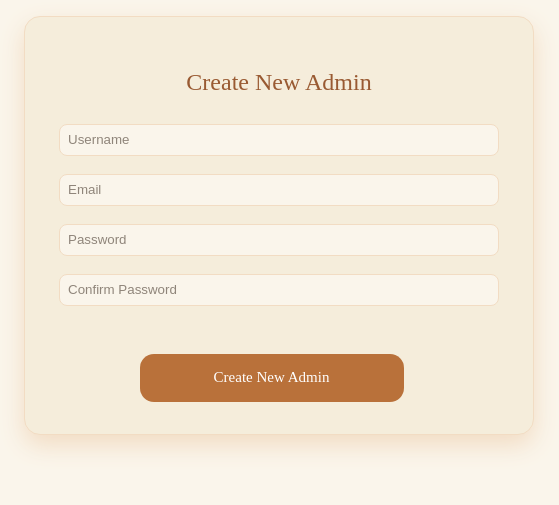
Scenario: CreateNewAdminForm › submits admin payload and shows success message
Type "Hans Zimmer" into the field with placeholder "Username".
click(279, 140); type("Hans Zimmer")  # box [59,124,499,156]
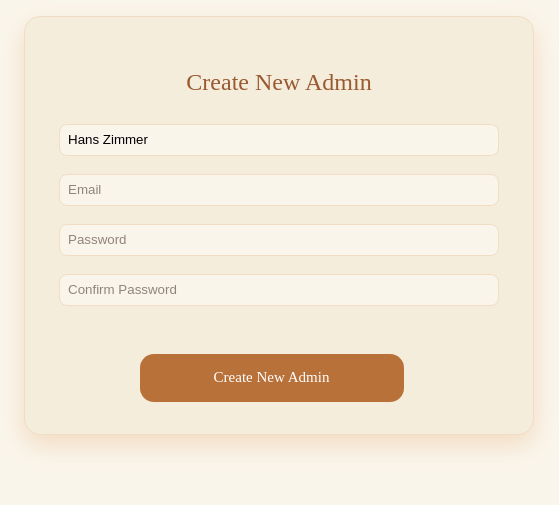
Type "hans@music.com" into the field with placeholder "Email".
click(279, 190); type("hans@music.com")  # box [59,174,499,206]
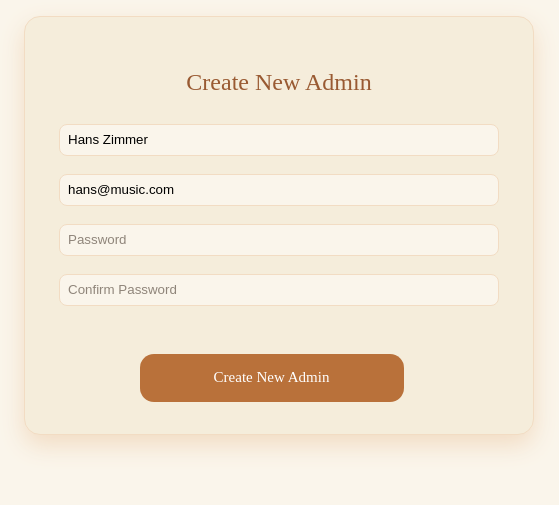
Type "Abcdef1234" into the password field with placeholder "Password".
click(279, 240); type("Abcdef1234")  # box [59,224,499,256]
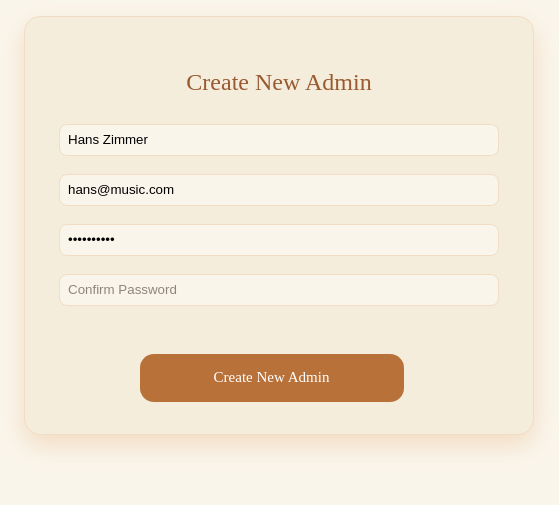
Type "Abcdef1234" into the password field with placeholder "Confirm Password".
click(279, 290); type("Abcdef1234")  # box [59,274,499,306]
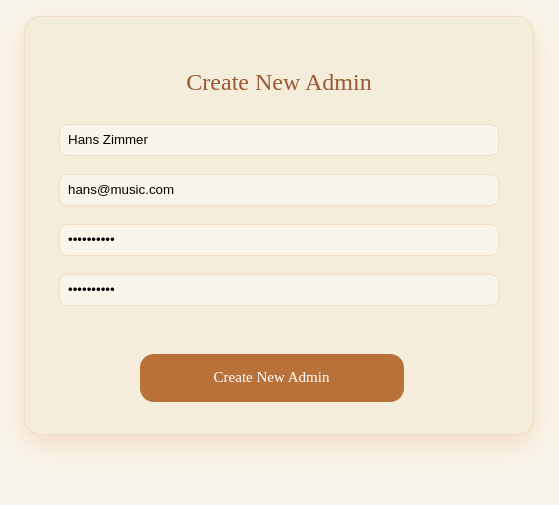
Click the button "Create New Admin".
click(272, 378)  # box [140,354,404,402]
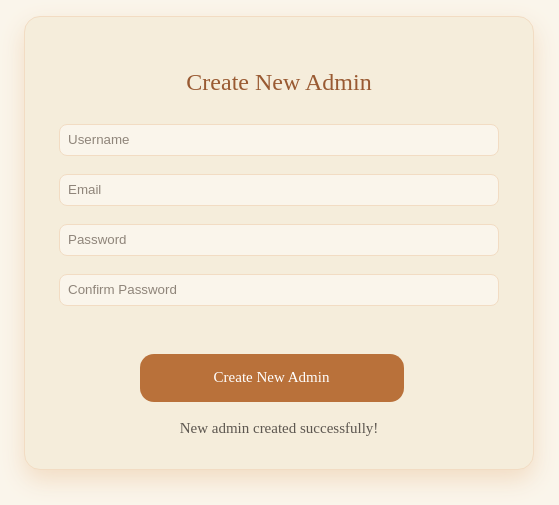
Now the text "New admin created successfully!" is shown, box [180,420,378,437]
